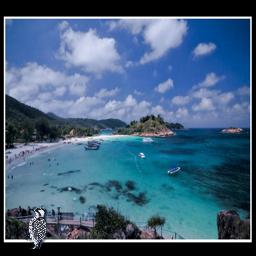Woodpecker: (24, 206, 48, 249)
